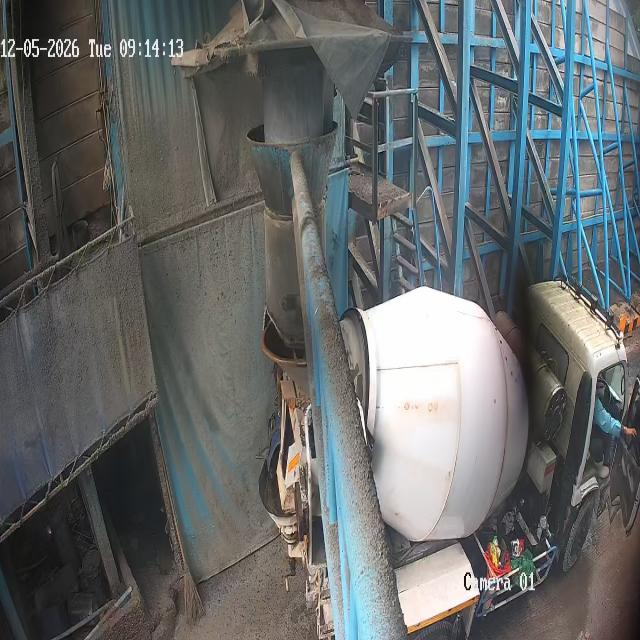cement_mixer_truck: (260, 281, 639, 639)
swing_chute: (247, 123, 343, 349)
